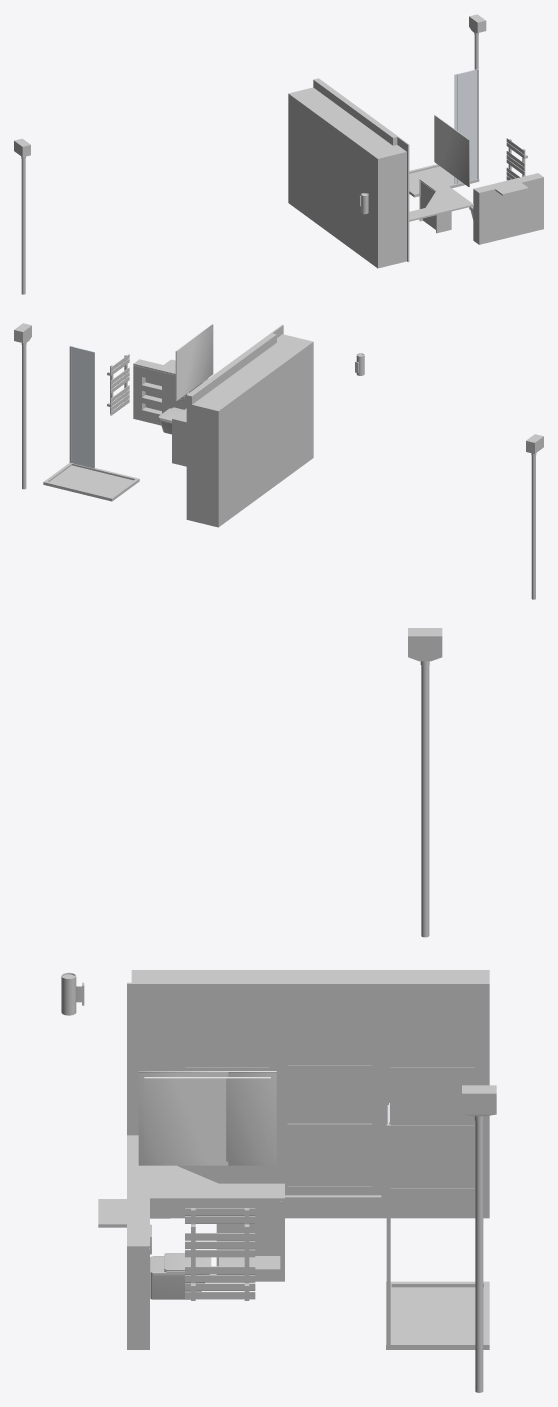
The model's file is PS01__TrueVision__MainBuildingModel__ProposedFixtures__MeshModel__.glb.
3 views of the same model, one above another, from view 1: azimuth 30°, elevation 25°; view 2: azimuth 150°, elevation 25°; view 3: azimuth 270°, elevation 25° (orthographic). The views are drawn at different scales.
Visible parts, largest first — view 1: 27__ProposedBuilding__Fixtures::Default, 27__ProposedBuilding__Fixtures::MAT101__Glass__ClearDefault1, 27__ProposedBuilding__Fixtures::MAT140__Mirror__ClearDefault; view 2: 27__ProposedBuilding__Fixtures::Default, 27__ProposedBuilding__Fixtures::MAT101__Glass__ClearDefault1, 27__ProposedBuilding__Fixtures::MAT140__Mirror__ClearDefault; view 3: 27__ProposedBuilding__Fixtures::Default, 27__ProposedBuilding__Fixtures::MAT140__Mirror__ClearDefault.
Boxes of the visible parts, <box> form: 27__ProposedBuilding__Fixtures::Default: <box>14,14,543,294</box>; 27__ProposedBuilding__Fixtures::MAT101__Glass__ClearDefault1: <box>454,69,477,184</box>; 27__ProposedBuilding__Fixtures::MAT140__Mirror__ClearDefault: <box>434,115,469,186</box>; 27__ProposedBuilding__Fixtures::Default: <box>14,323,543,599</box>; 27__ProposedBuilding__Fixtures::MAT101__Glass__ClearDefault1: <box>71,346,94,468</box>; 27__ProposedBuilding__Fixtures::MAT140__Mirror__ClearDefault: <box>175,324,213,400</box>; 27__ProposedBuilding__Fixtures::Default: <box>61,628,496,1392</box>; 27__ProposedBuilding__Fixtures::MAT140__Mirror__ClearDefault: <box>138,1071,276,1165</box>.
Bounding box in the file's own units: 9.57 × 2.9 × 3.78.
3 materials, 1 textured.
